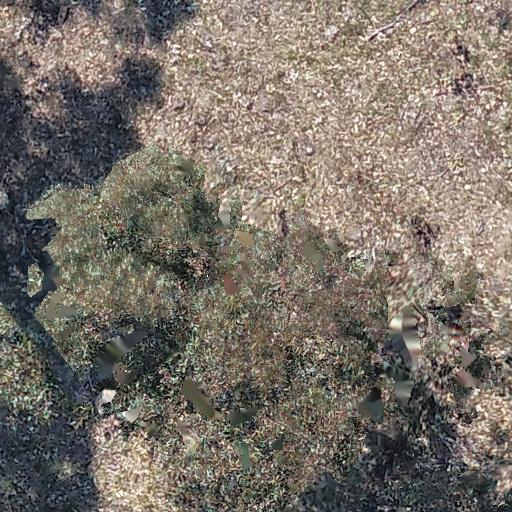stone: (302, 141, 314, 154), (476, 166, 488, 174)
